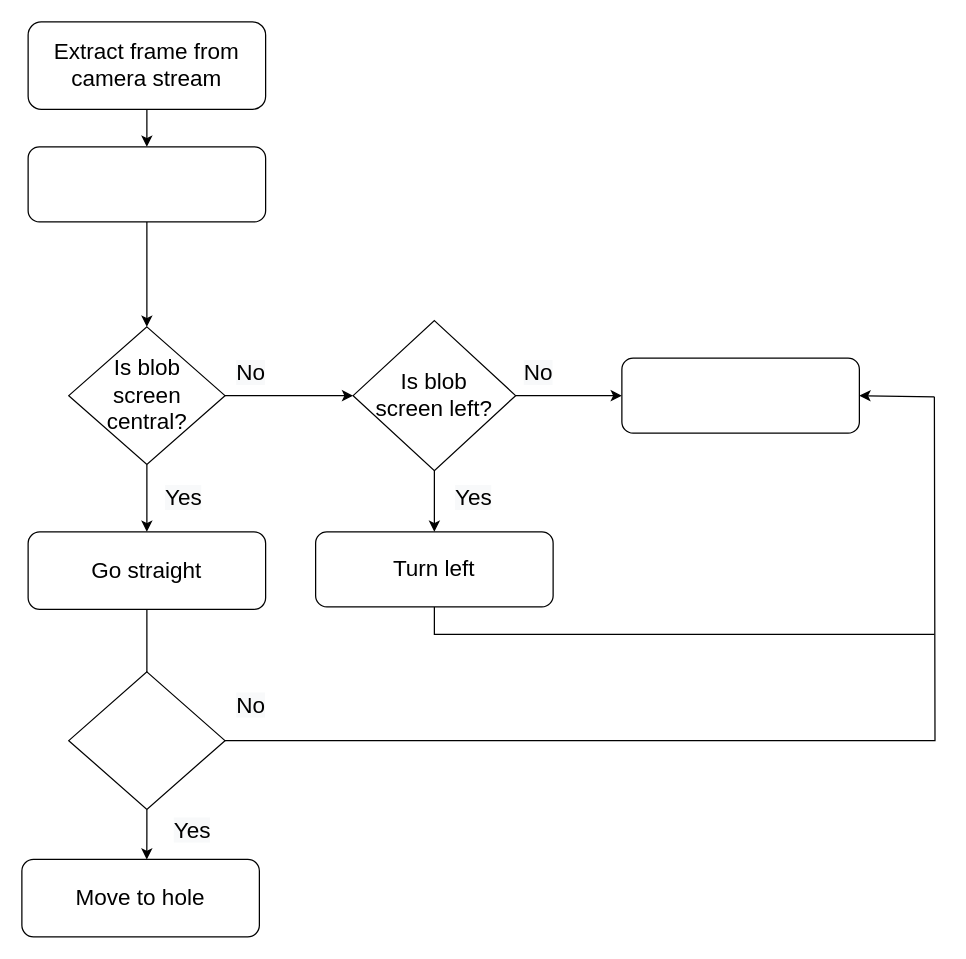
The diagram is 966 pixels wide and 959 high, and some of its shapes have lost their labels. The shapes that lost their labels are listed below. From the top down, each one's centre as x and y in pixels, then its label:
At point (146, 184): "Select closest blob & find centrepoint".
At point (740, 395): "Turn right".
At point (146, 740): "Is blob screen bottom?".
